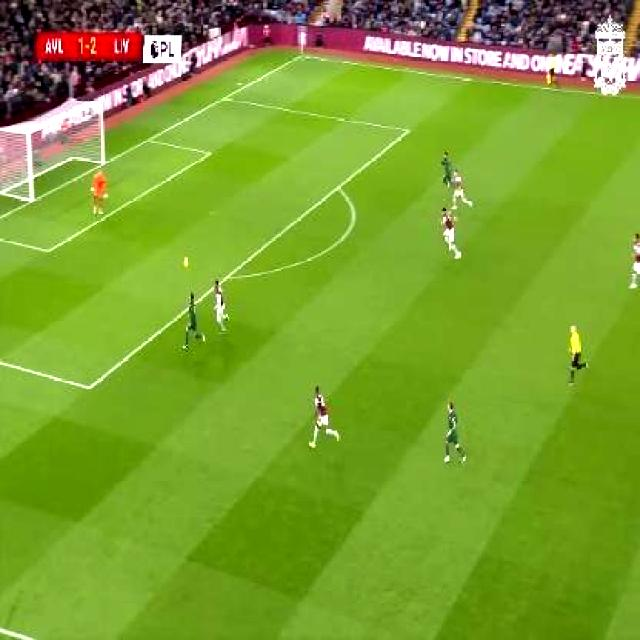bigarea_bottom_inner: (80, 374, 97, 398)
bigarea_top_inner: (400, 120, 414, 140)
bigarea_top_outter: (217, 89, 231, 105)
bottom_arc_area_intersection: (220, 266, 235, 286)
corner: (294, 48, 311, 62)
smallarea_bottom_inner: (38, 237, 56, 261)
smallarea_top_inner: (202, 145, 216, 160)
smallarea_top_outter: (140, 130, 155, 148)
top_arc_area_intersection: (329, 177, 343, 195)
